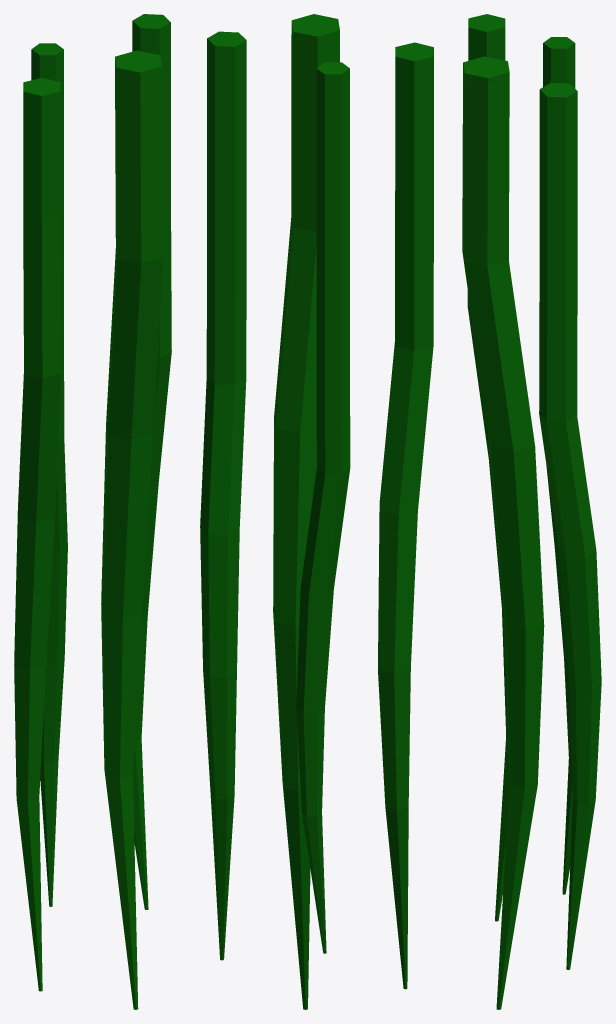
Rendered from vine_group_4.glb.
3 renders of one model, left to right at view 1: azimuth 30°, elevation 25°; view 2: azimuth 150°, elevation 25°; view 3: azimuth 270°, elevation 25°, orthographic. The views are drawn at different scales.
Parts seen in each view (by area): view 1: vine-col, vine.002-col, vine.004-col, vine.003-col; view 2: vine.004-col, vine.002-col, vine-col, vine.003-col; view 3: vine-col, vine.004-col, vine.002-col, vine.003-col.
Boxes of the visible parts, left/top/right/bottom form: vine-col: left=101, top=50, right=162, bottom=1009; vine.002-col: left=14, top=78, right=61, bottom=991; vine.004-col: left=132, top=14, right=171, bottom=909; vine.003-col: left=31, top=43, right=67, bottom=906; vine.004-col: left=200, top=31, right=246, bottom=960; vine.002-col: left=378, top=42, right=433, bottom=989; vine-col: left=273, top=14, right=339, bottom=1009; vine.003-col: left=296, top=62, right=350, bottom=953; vine-col: left=462, top=56, right=544, bottom=1009; vine.004-col: left=539, top=82, right=601, bottom=969; vine.002-col: left=467, top=14, right=509, bottom=921; vine.003-col: left=543, top=37, right=575, bottom=894.
Size of the model in its own units: 0.8444 by 4.26 by 0.5721.
